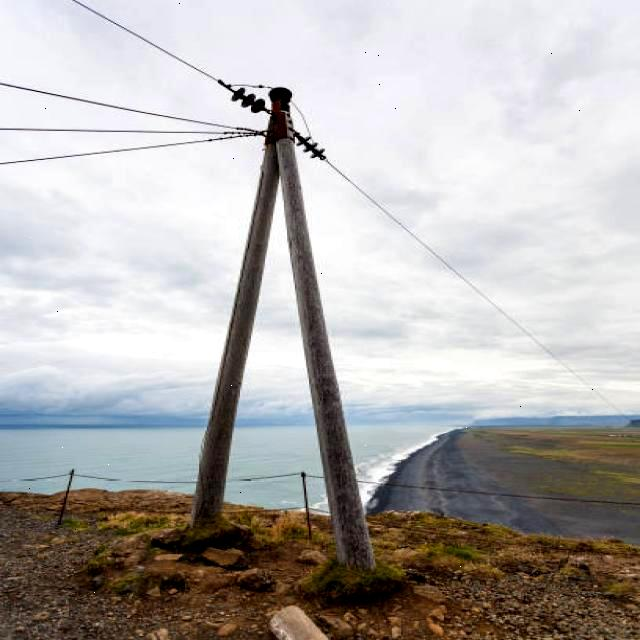Broken Pole: (256, 110, 412, 607)
